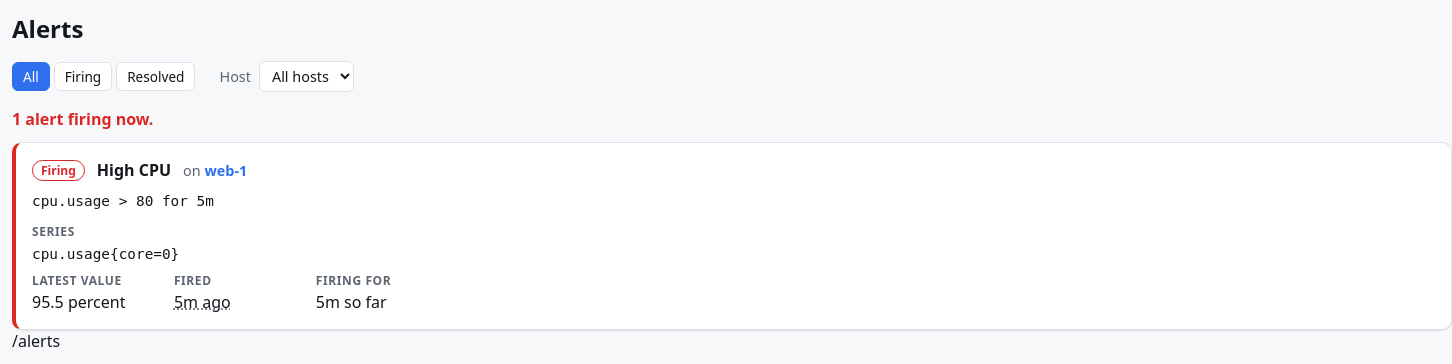
Test: AlertsPage › shows the old results only until a new filter's results arrive
This screenshot has width=1452, height=364.
Click the button "Resolved": coordinates (156, 76) [116, 62, 196, 91]
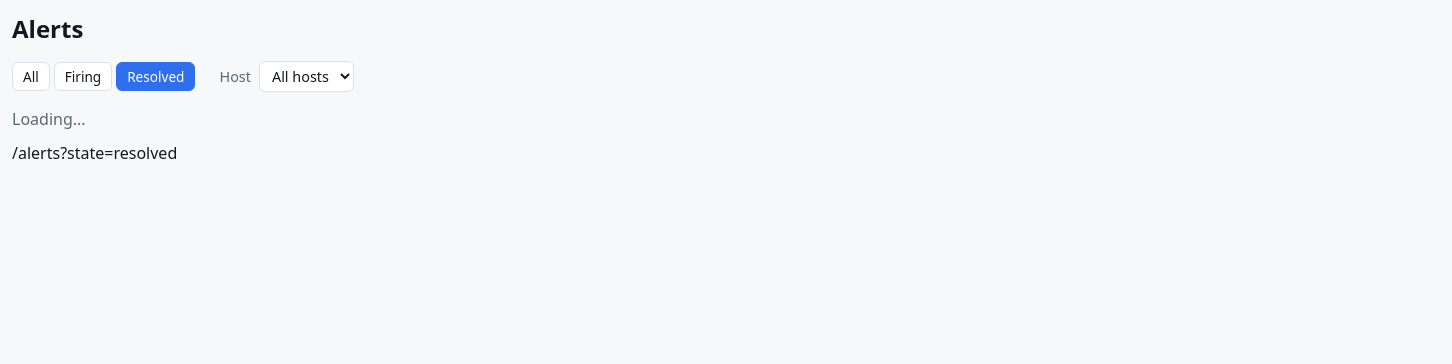
Expected: the text "Loading..." is shown, [12, 108, 86, 130]
Expected: the list item is gone
